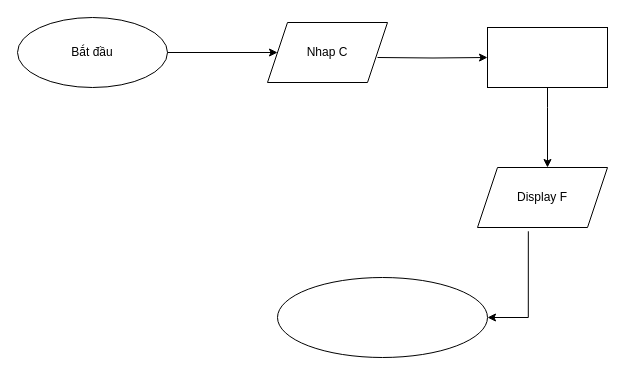
The diagram is 625 pixels wide and 375 high, and some of its shapes have lost their labels. The shapes that lost their labels are listed below. From the top down, each one's centre as x and y in pixels, then its label:
At (x=547, y=57): "F=(9*C)/5+32".
At (x=382, y=317): "Ket thuc".
